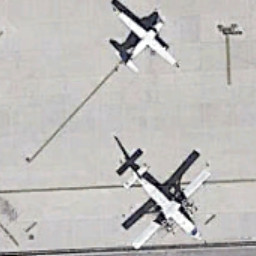Airplane: (92, 148, 217, 255), (97, 2, 186, 91)
